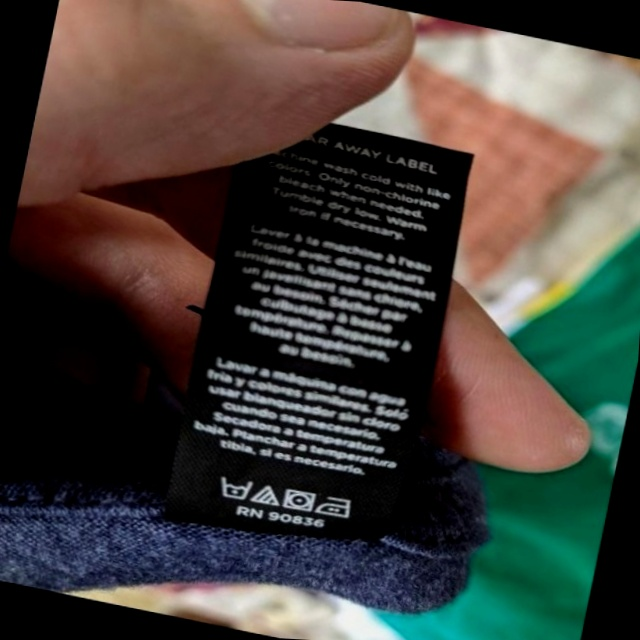30C: (218, 471, 254, 504)
iron_medium: (316, 493, 358, 525)
non_chlorine_bleach: (251, 482, 285, 510)
tumble_dry_low: (281, 486, 321, 518)
